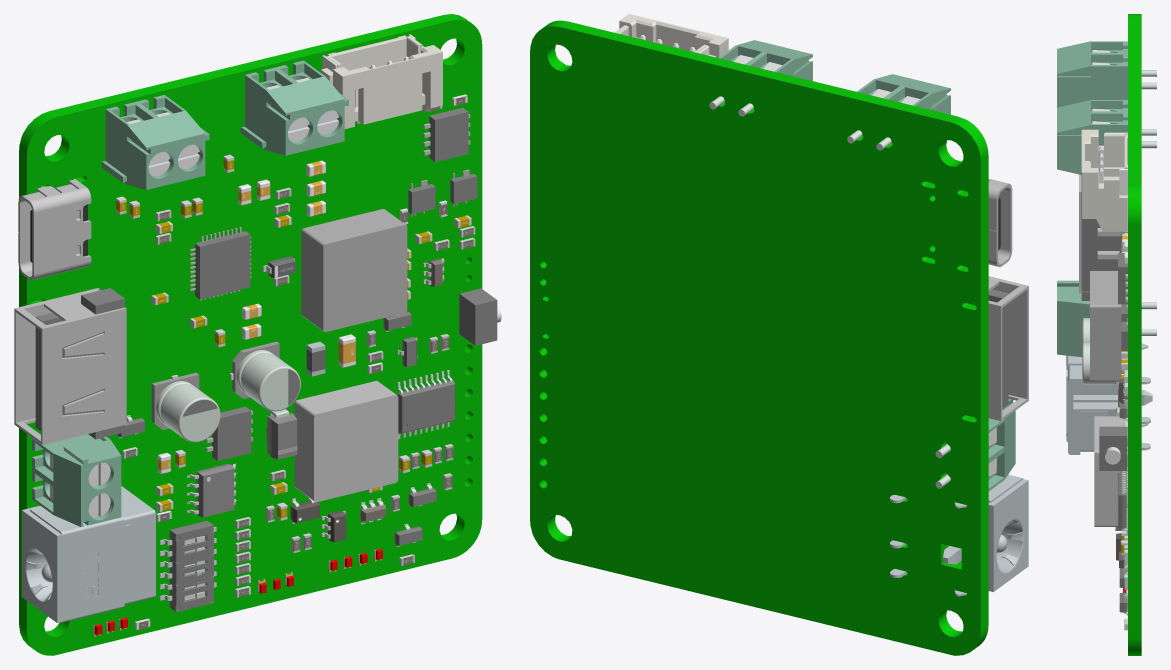
The model's file is bms.glb.
3 views of the same model, side by side, from view 1: azimuth 30°, elevation 25°; view 2: azimuth 150°, elevation 25°; view 3: azimuth 270°, elevation 25° (orthographic). The views are drawn at different scales.
Parts seen in each view (by area): view 1: Solar Energy Manager A-V2.2_step.prt; view 2: Solar Energy Manager A-V2.2_step.prt; view 3: Solar Energy Manager A-V2.2_step.prt.
Part boxes in pixels (x1,y1,x2,y2): Solar Energy Manager A-V2.2_step.prt: (14, 14, 501, 655); Solar Energy Manager A-V2.2_step.prt: (530, 14, 1028, 655); Solar Energy Manager A-V2.2_step.prt: (1057, 14, 1156, 655).
Bounding box in the file's own units: 56.39 × 61.15 × 11.8.
